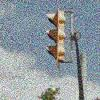traffic lights: (47, 9, 66, 64)
